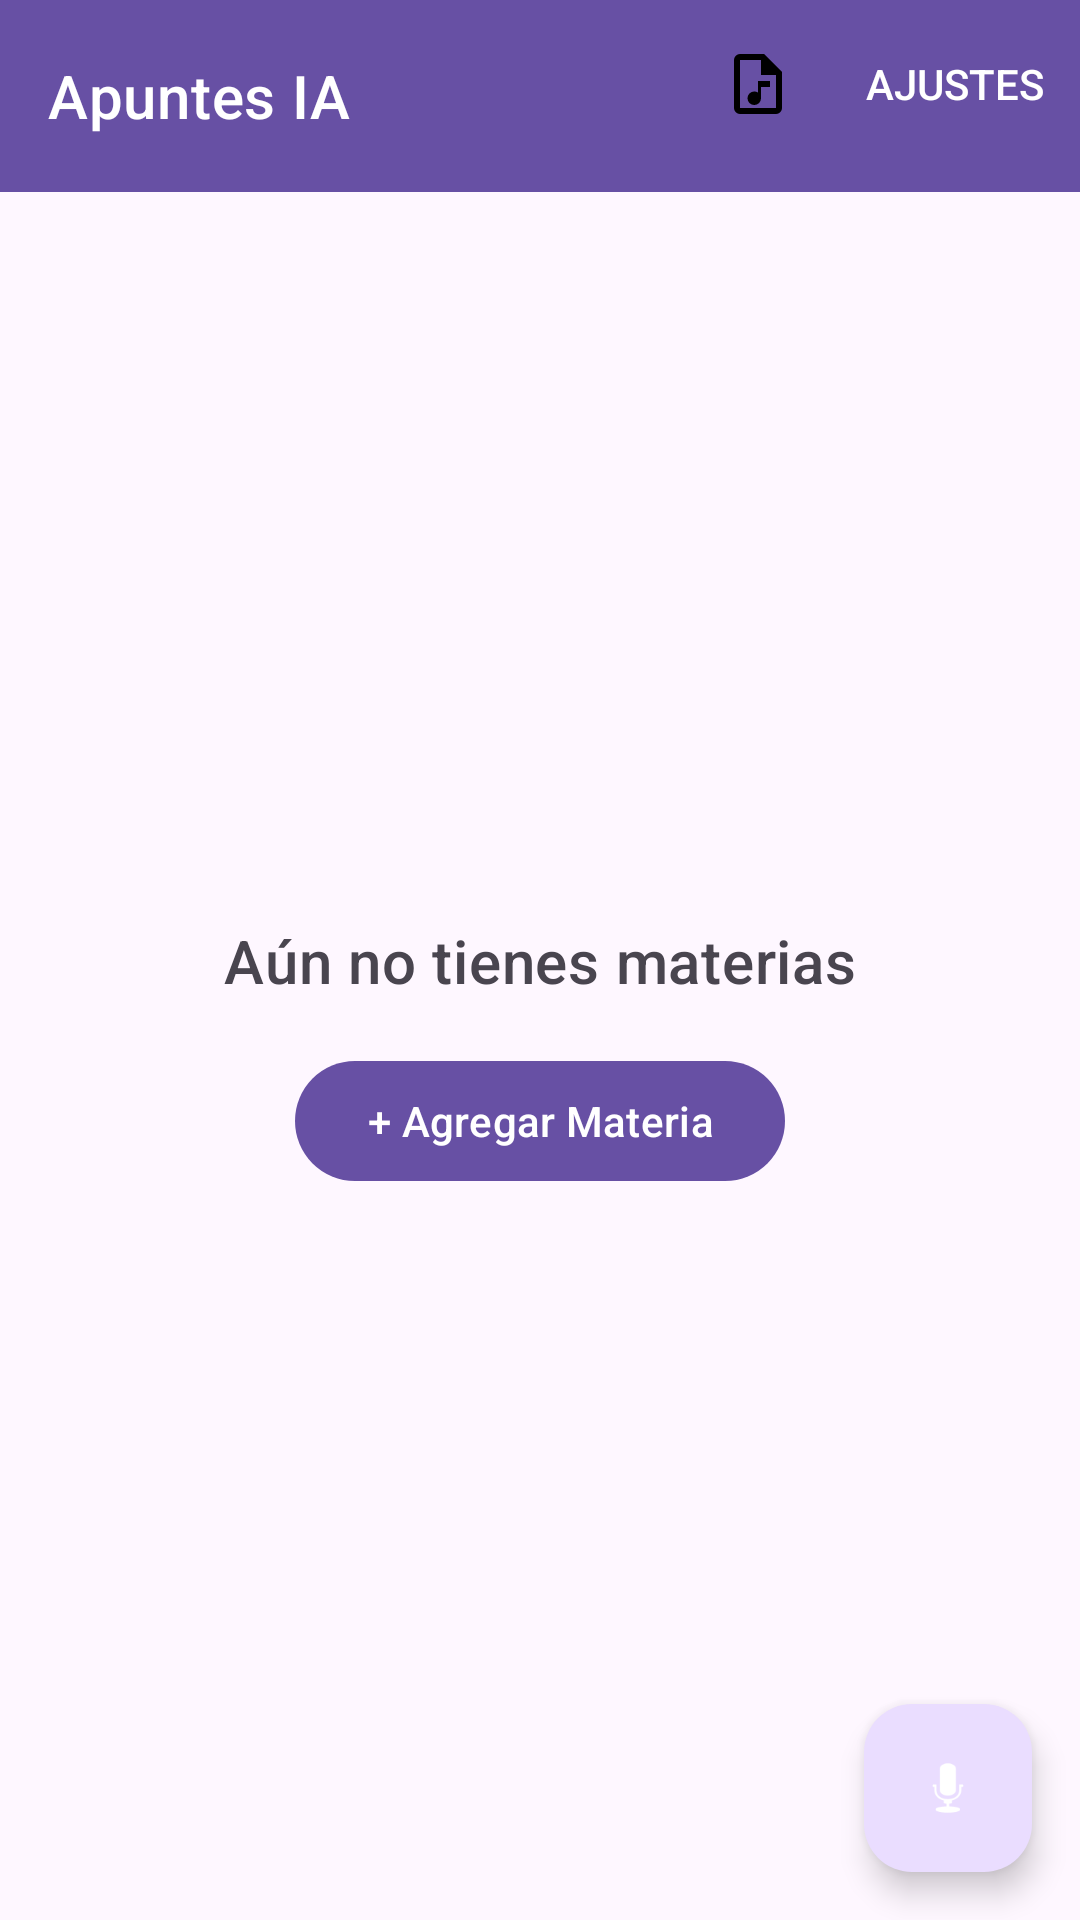

Where to tap for icons on this 1080 x 1920 app screen, as (x,y):
Grabar nueva clase: (948,1788)
